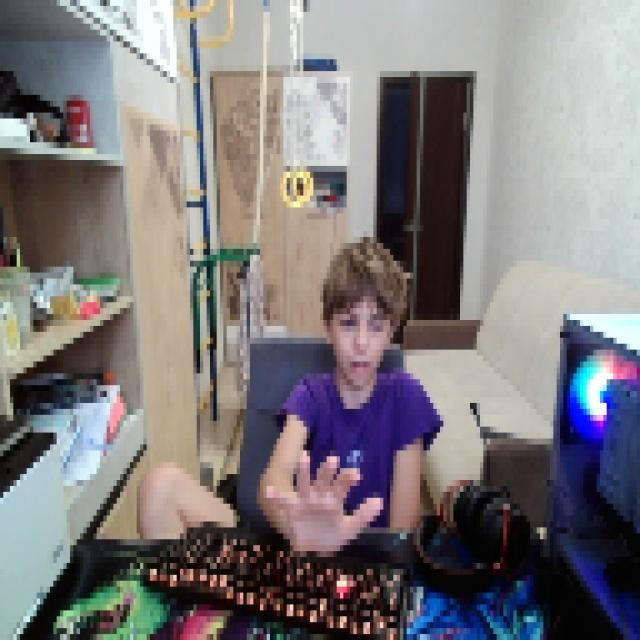hand: (260, 439, 380, 551)
